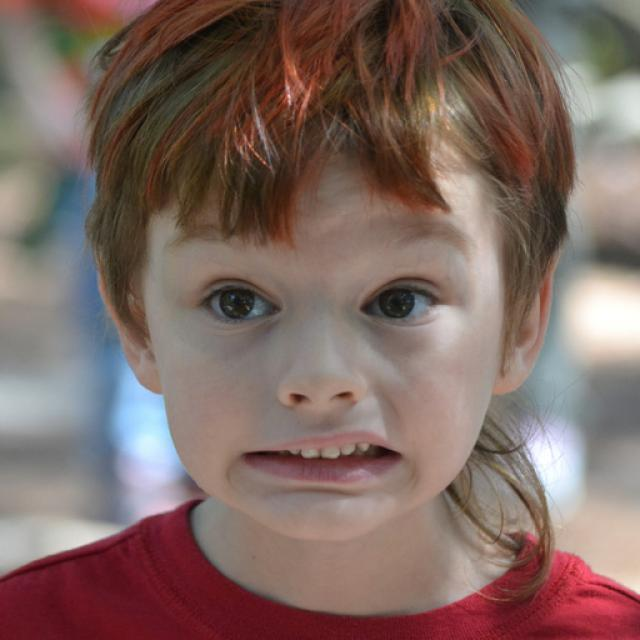neutral: (151, 146, 500, 542)
